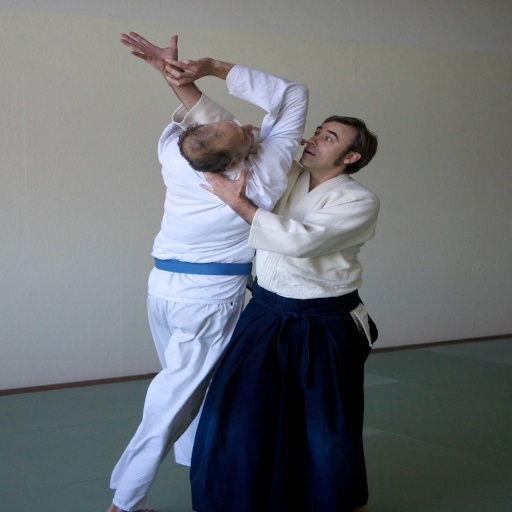hand: (164, 36, 235, 89), (116, 30, 179, 74), (196, 168, 249, 206)
